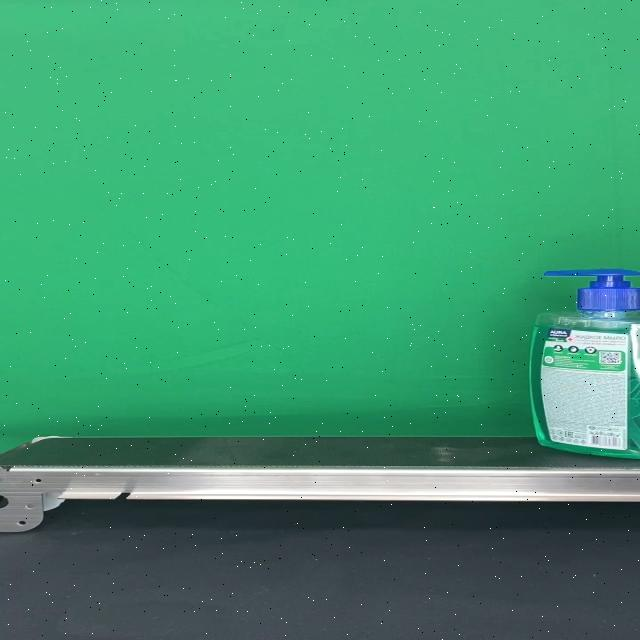Bottle: (530, 269, 640, 459)
Cap: (543, 269, 640, 311)
